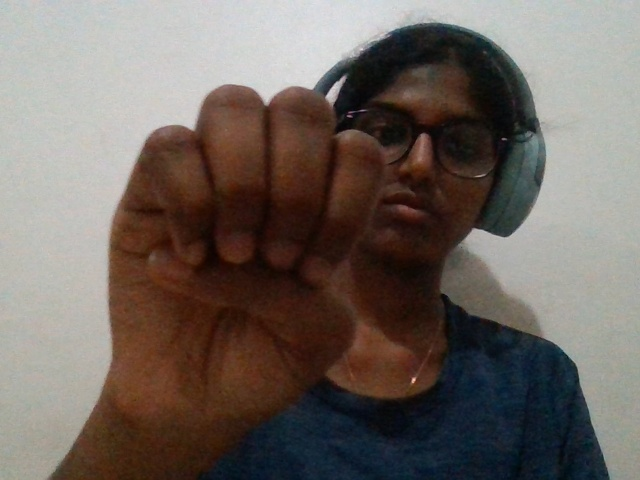E: (80, 59, 409, 470)
